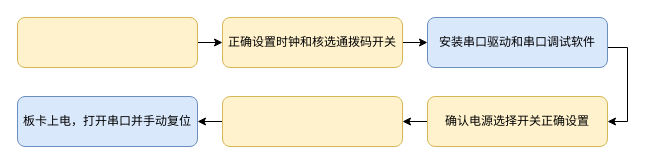
This 653x164 diagram has some shape labels left out. The shapes that lost their labels are listed below. From the top down, each one's centre as x and y in pixels, then its label:
[107,42]: 确认FPGA核心板已经正确插入
[312,121]: 确认功能切换开关正确设置
